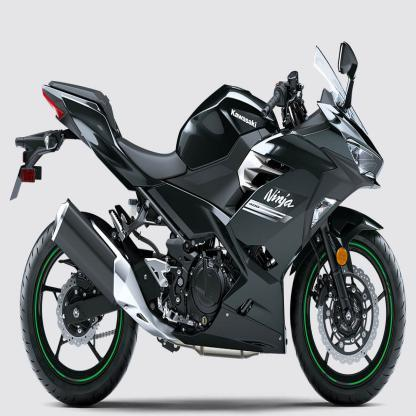Motorcycle: (7, 33, 410, 408)
